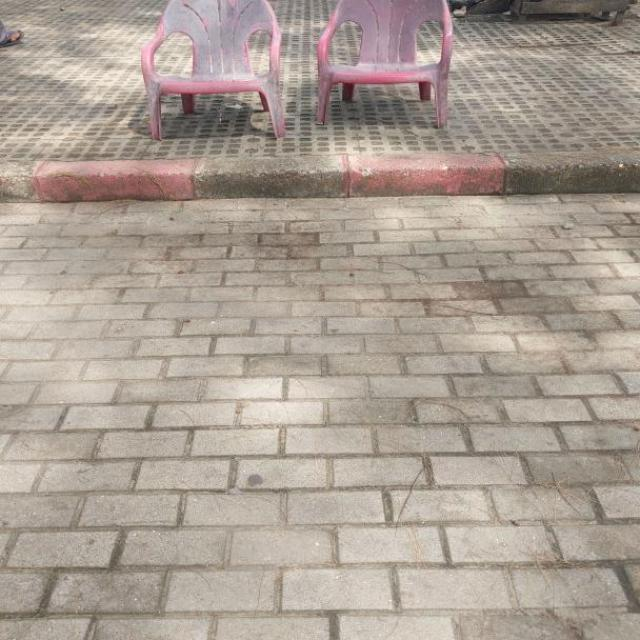chair ahead at: (142, 0, 292, 143), (315, 0, 461, 128)
